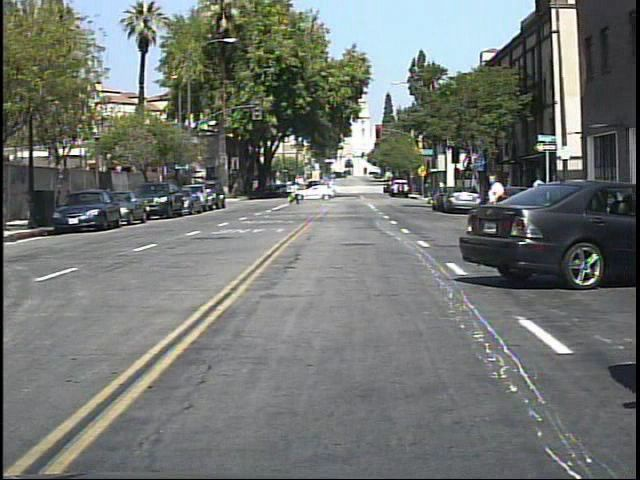person: (481, 166, 513, 245), (530, 169, 552, 218), (289, 177, 307, 210)
